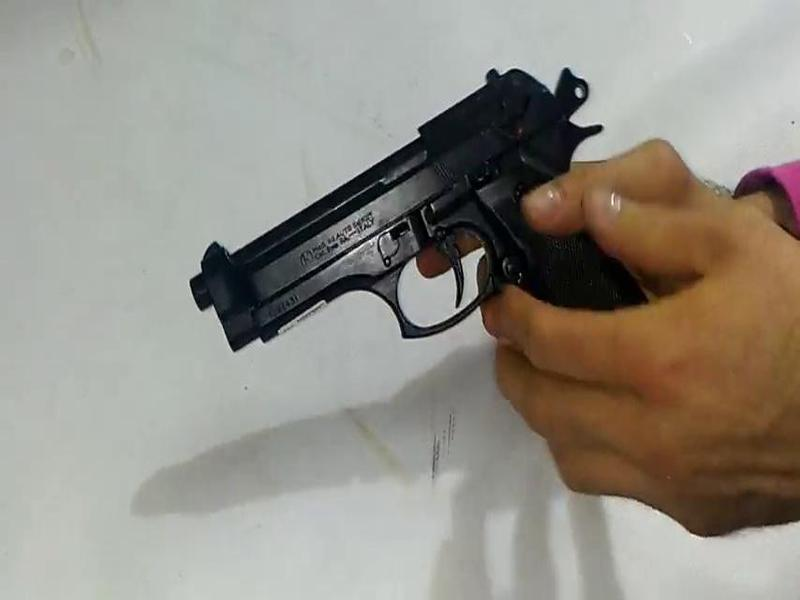Pistola: (170, 55, 654, 385)
